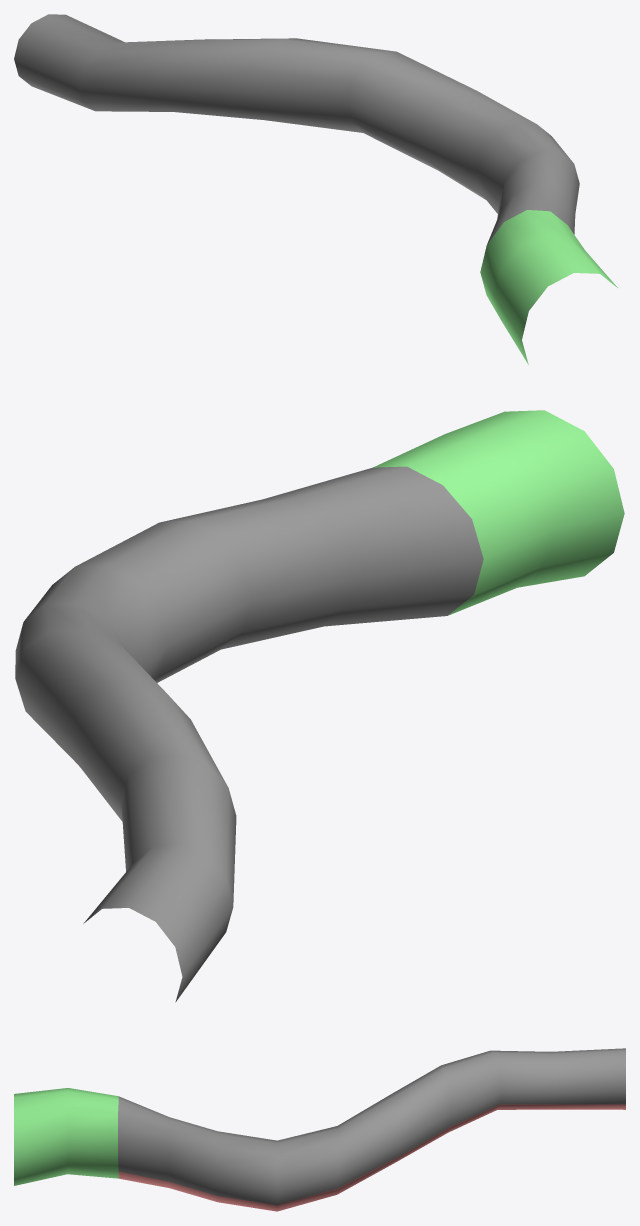
The picture shows the model from 3 angles, top to bottom: view 1: azimuth 30°, elevation 25°; view 2: azimuth 150°, elevation 25°; view 3: azimuth 270°, elevation 25°; orthographic projection. The views are drawn at different scales.
Parts seen in each view (by area): view 1: root_06_1; view 2: root_06_1; view 3: root_06_1.
Boxes of the visible parts, x1,y1,x2,y2 form: root_06_1: (14,14,617,364); root_06_1: (15,410,624,1002); root_06_1: (14,1048,625,1211).
Bounding box in the file's own units: 30.56 × 13.01 × 66.48.
